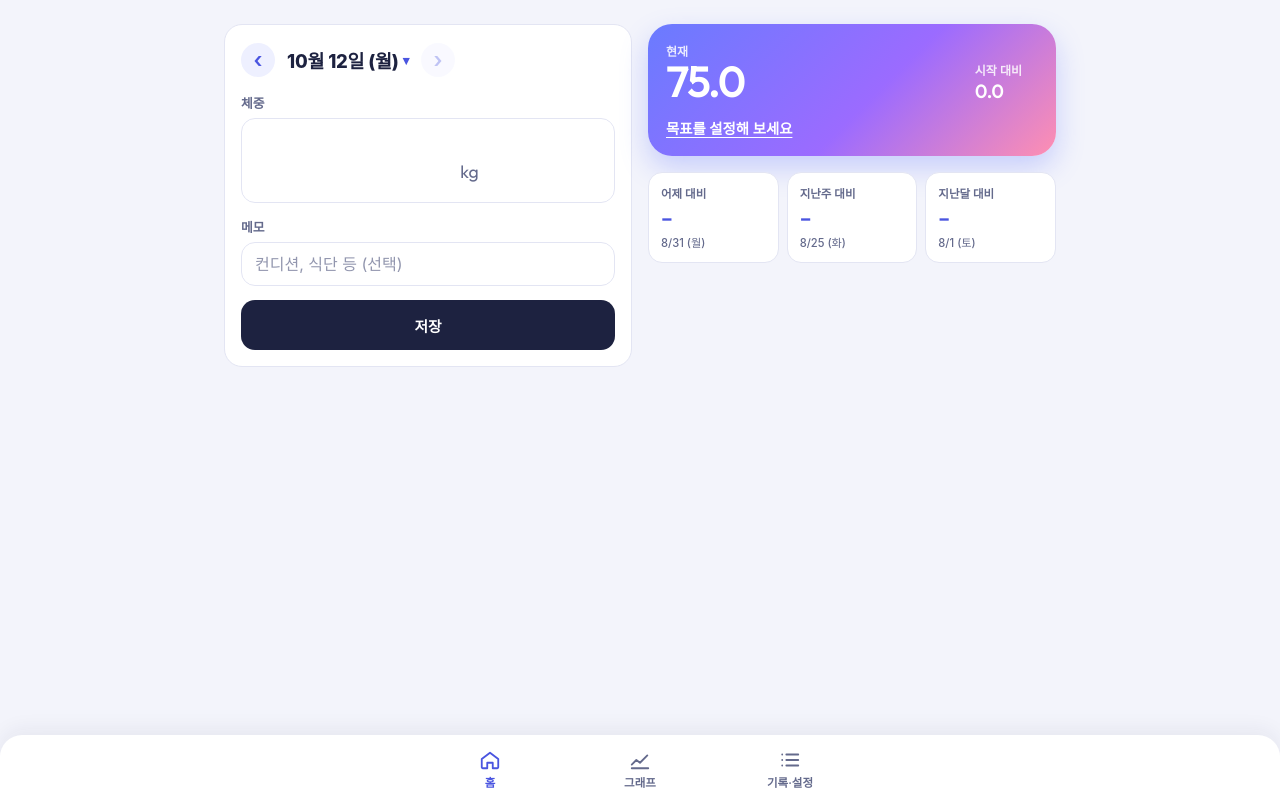
Test: copying records › disables periods without records and hides the button when there are none
This screenshot has width=1280, height=800.
Expected: the navigation bar is shown, [0,735,1279,799]
Click the button "기록·설정".
click(790, 770)  # box [715,741,865,799]
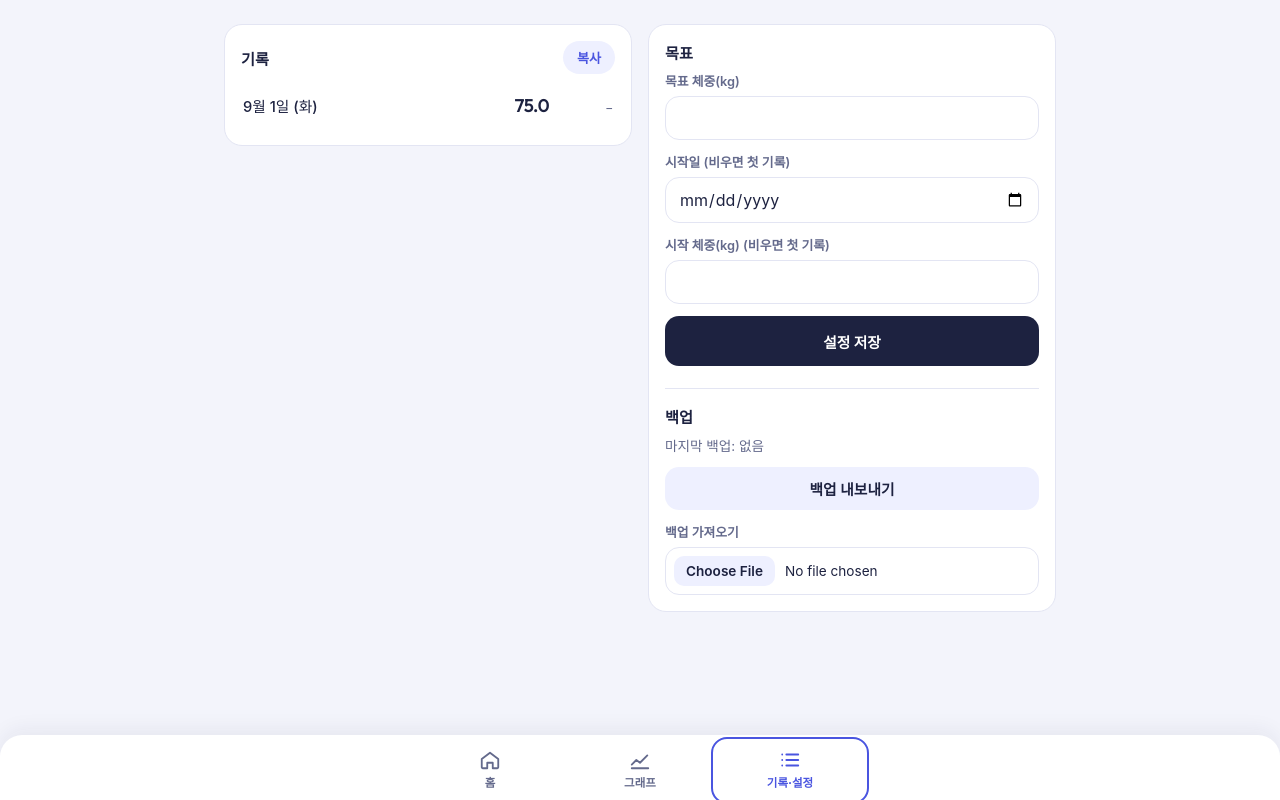
Click the button "복사".
click(589, 58)  # box [563,41,615,74]
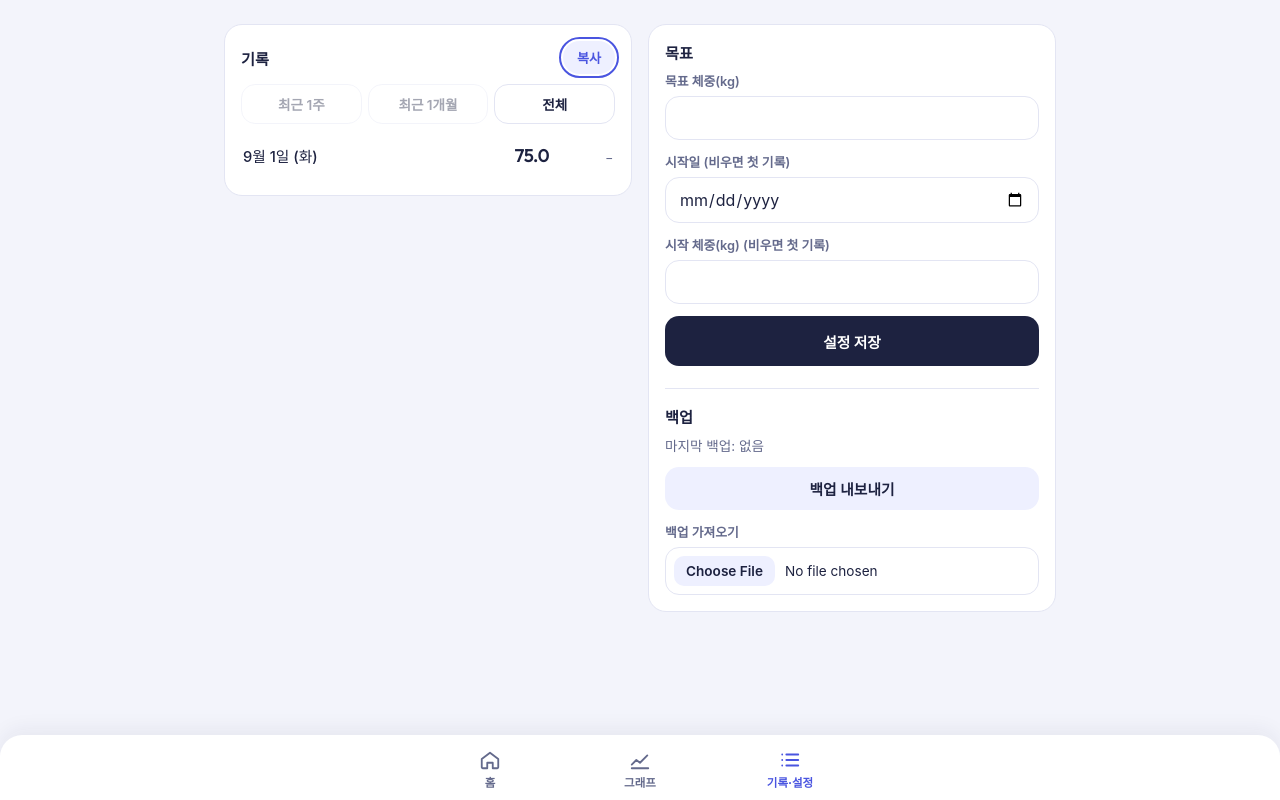
Expected: the button "최근 1주" is disabled, [241,84,362,124]
Expected: the button "최근 1개월" is disabled, [368,84,488,124]
Expected: the button "전체" is enabled, [494,84,615,124]
